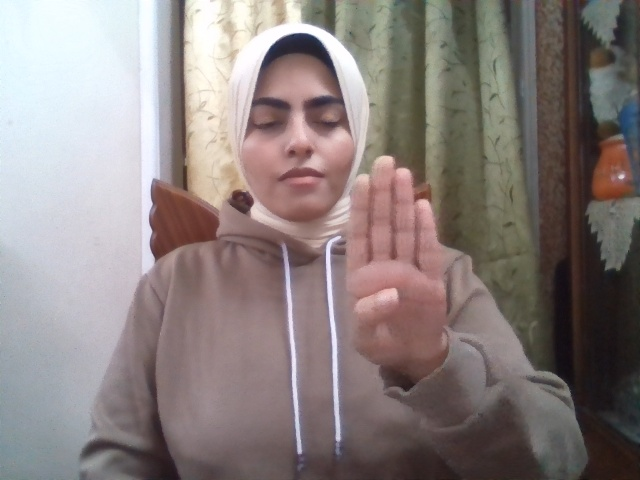B: (346, 155, 446, 371)
